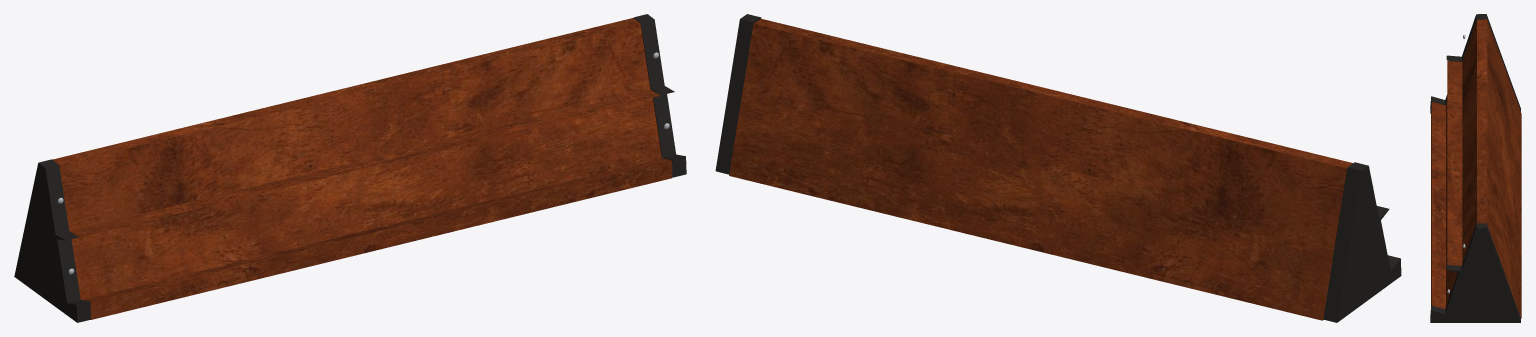
Rendered from okey_rack.glb.
3 views of the same model, side by side, from view 1: azimuth 30°, elevation 25°; view 2: azimuth 150°, elevation 25°; view 3: azimuth 270°, elevation 25° (orthographic). The views are drawn at different scales.
Parts seen in each view (by area): view 1: RackSteppedBody, RackBlackCap_L, RackBlackCap_R; view 2: RackSteppedBody, RackBlackCap_L, RackBlackCap_R; view 3: RackSteppedBody, RackBlackCap_R, RackBlackCap_L.
Part boxes in pixels (box(x1,y1,x2,y2)): RackSteppedBody: box(52, 18, 672, 319); RackBlackCap_L: box(14, 159, 90, 322); RackBlackCap_R: box(633, 14, 686, 177); RackSteppedBody: box(729, 18, 1352, 320); RackBlackCap_L: box(1323, 162, 1401, 322); RackBlackCap_R: box(715, 14, 761, 174); RackSteppedBody: box(1431, 19, 1521, 318); RackBlackCap_R: box(1430, 223, 1520, 322); RackBlackCap_L: box(1430, 14, 1520, 113).
Bounding box in the file's own units: 0.62 × 0.1289 × 0.112.
Materials: 3 (1 with a texture image).
